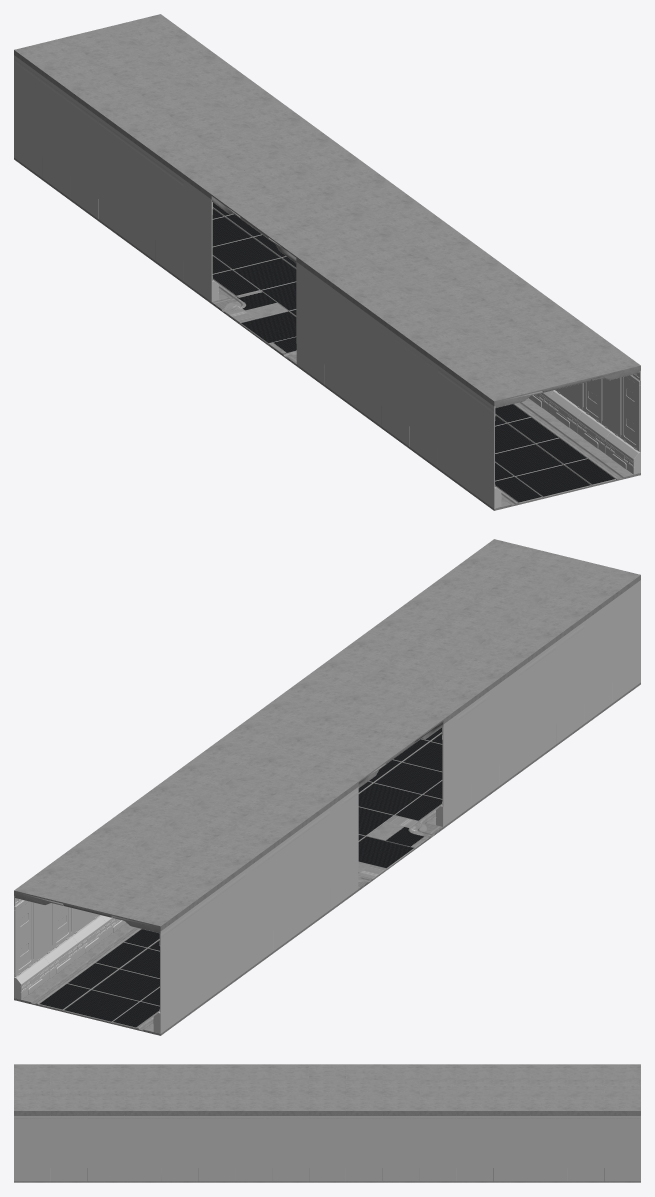
File: Pasillo9Opti.fbx
3 renders of one model, top to bottom at view 1: azimuth 30°, elevation 25°; view 2: azimuth 150°, elevation 25°; view 3: azimuth 270°, elevation 25°, orthographic. The views are drawn at different scales.
Visible parts, largest first — view 1: SM_Ceiling_Center__8_, SM_Wall_AA__3_, SM_Floor_Center__4_; view 2: SM_Ceiling_Center__8_, SM_Wall_AA__3_, SM_Floor_Center__4_; view 3: SM_Wall_AA__3_, SM_Ceiling_Center__8_, SM_Floor_Center__4_.
Part boxes in pixels (x1=…): SM_Ceiling_Center__8_: x1=14, y1=14, x2=640, y2=408; SM_Wall_AA__3_: x1=14, y1=55, x2=640, y2=508; SM_Floor_Center__4_: x1=14, y1=157, x2=640, y2=510; SM_Ceiling_Center__8_: x1=14, y1=539, x2=640, y2=933; SM_Wall_AA__3_: x1=14, y1=580, x2=640, y2=1033; SM_Floor_Center__4_: x1=14, y1=682, x2=640, y2=1035; SM_Wall_AA__3_: x1=14, y1=1115, x2=640, y2=1181; SM_Ceiling_Center__8_: x1=14, y1=1064, x2=640, y2=1115; SM_Floor_Center__4_: x1=14, y1=1181, x2=640, y2=1182.
Bounding box in the file's own units: 60 × 42.8 × 340.
